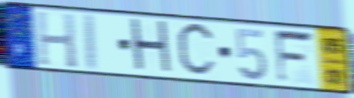5: (234, 27, 269, 82)
C: (175, 20, 218, 81)
F: (273, 28, 317, 86)
H: (128, 16, 175, 77), (34, 9, 79, 70)
I: (84, 11, 100, 72)
